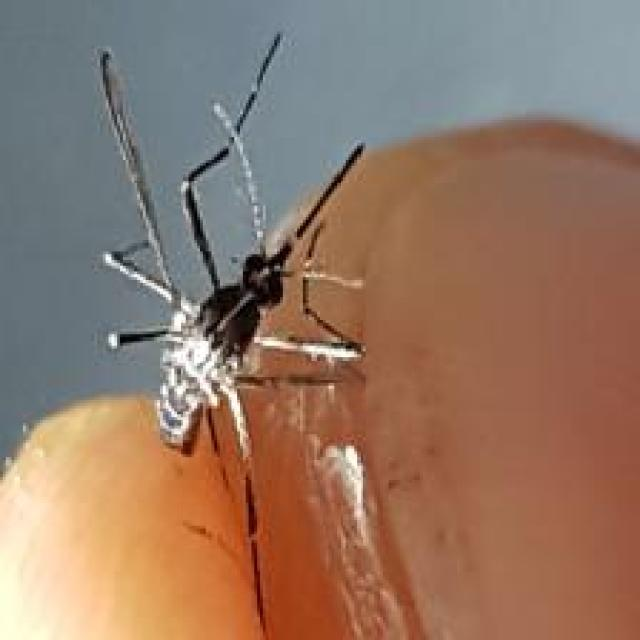Aedes albopictus: (94, 28, 369, 463)
